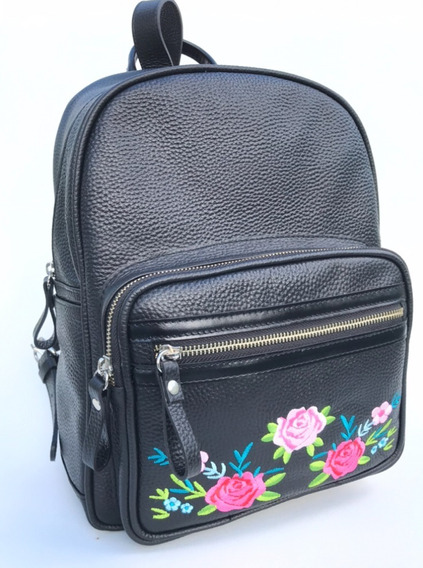cartera: (34, 1, 414, 548)
